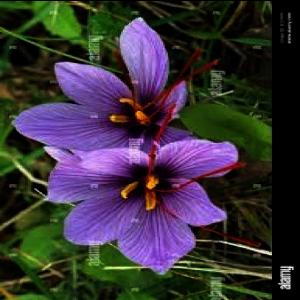Saffron: (48, 137, 238, 276), (13, 10, 192, 156)
